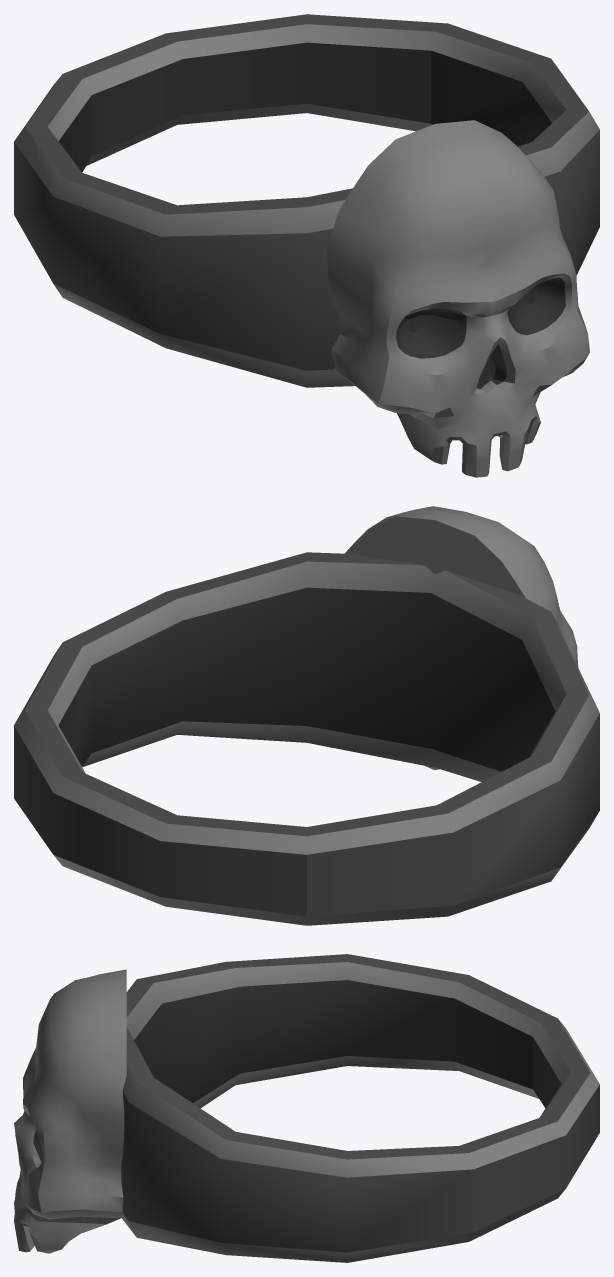
The model's file is BadToTheBoneRing.fbx.
The picture shows the model from 3 angles, top to bottom: view 1: azimuth 30°, elevation 25°; view 2: azimuth 150°, elevation 25°; view 3: azimuth 270°, elevation 25°; orthographic projection. The views are drawn at different scales.
Visible parts, largest first — view 1: polySurface93; view 2: polySurface93; view 3: polySurface93.
Part boxes in pixels (x1,y1,x2,y2): polySurface93: (14, 14, 599, 477); polySurface93: (14, 506, 599, 925); polySurface93: (14, 954, 599, 1262).
Size of the model in its own units: 190 by 109 by 221.
